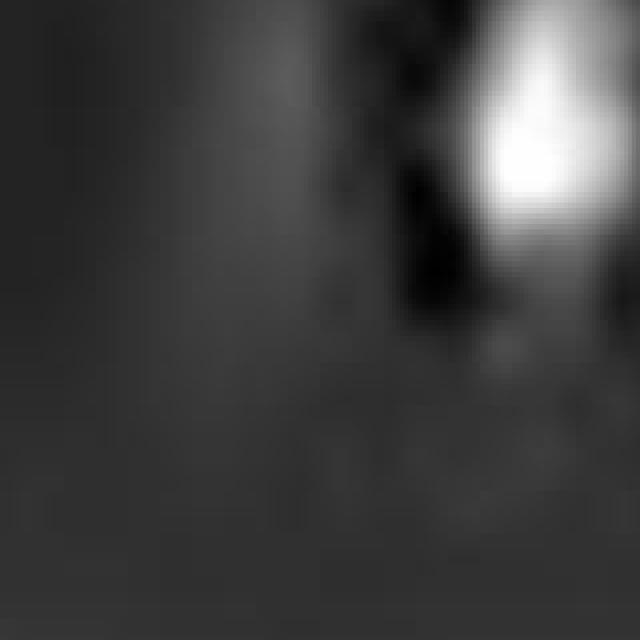person: (453, 1, 640, 401)
